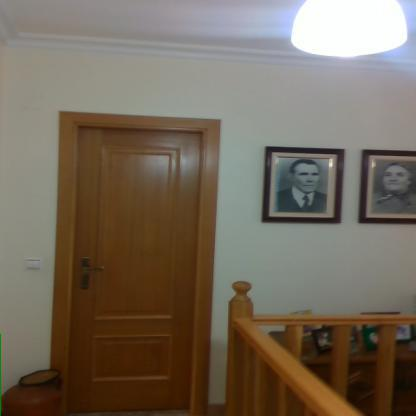door: (78, 127, 196, 404)
lever: (82, 266, 108, 274)
